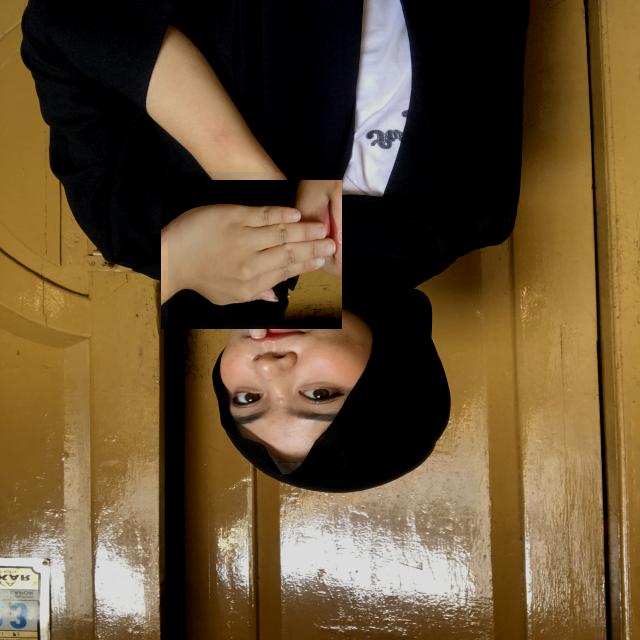ganteng: (168, 172, 334, 337)
